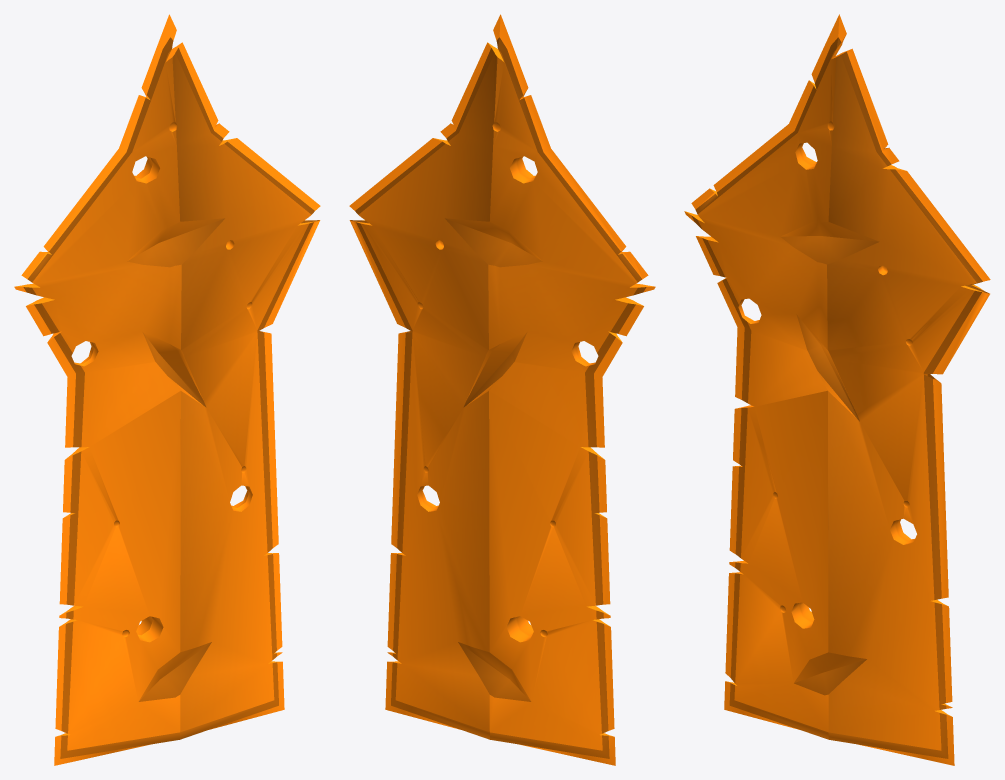
File: bronze_blade_bubbles_027.glb
3 renders of one model, left to right at view 1: azimuth 30°, elevation 25°; view 2: azimuth 150°, elevation 25°; view 3: azimuth 330°, elevation 25°, orthographic.
Parts seen in each view (by area): view 1: bronze_blade_bubbles.027; view 2: bronze_blade_bubbles.027; view 3: bronze_blade_bubbles.027.
Part boxes in pixels (<box>): bronze_blade_bubbles.027: <box>14,14,320,765</box>; bronze_blade_bubbles.027: <box>349,14,655,765</box>; bronze_blade_bubbles.027: <box>684,14,990,765</box>.
Bounding box in the file's own units: 5.19 × 11.76 × 0.723.
1 material, 1 textured.
